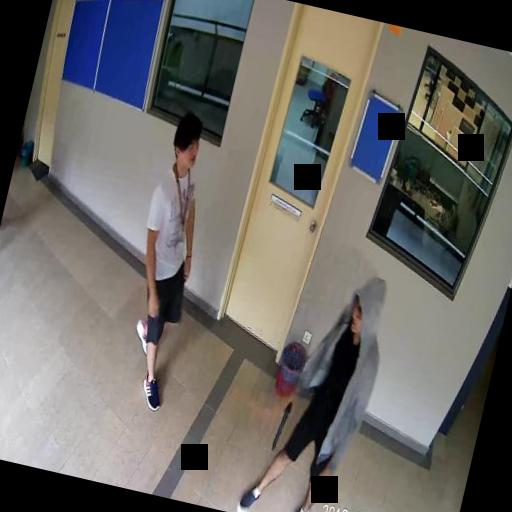Handgun: (269, 398, 293, 451)
